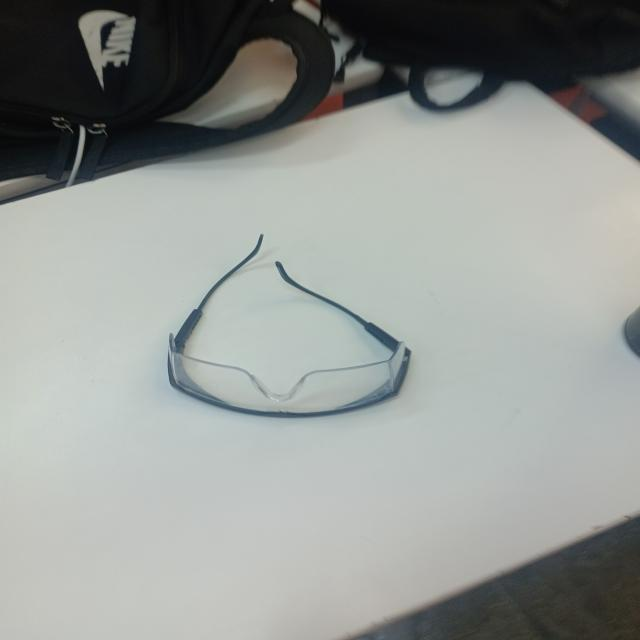oculos-epi: (163, 232, 410, 416)
